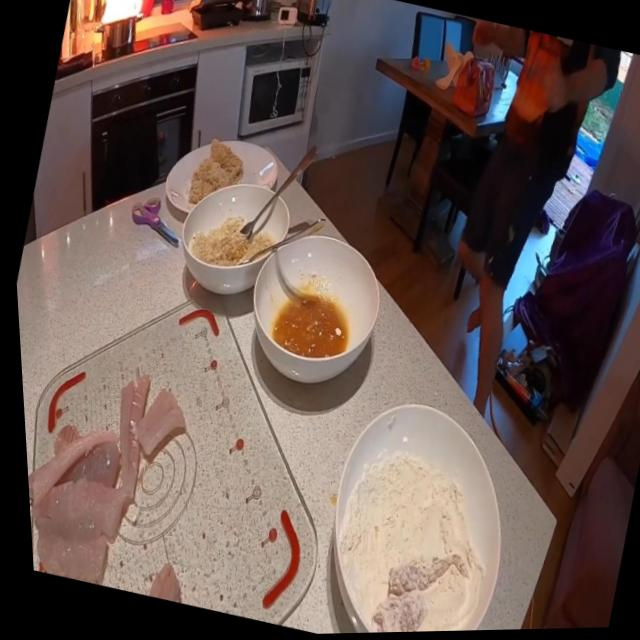fire: (91, 0, 160, 34)
